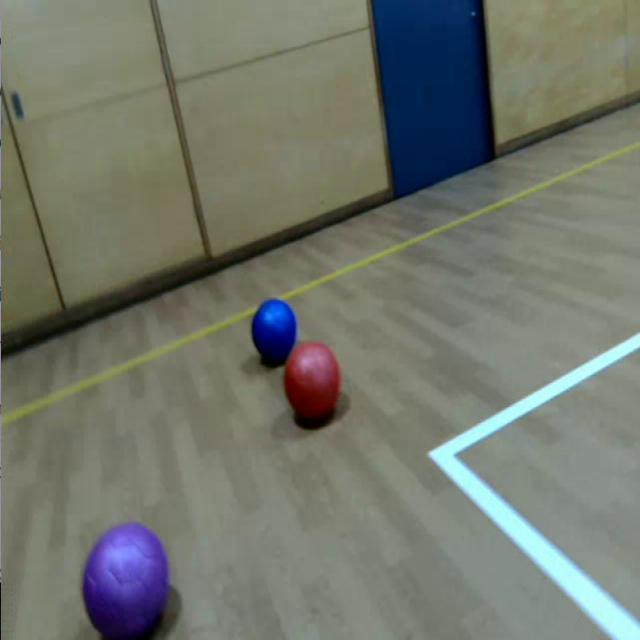blue_ball: (250, 298, 298, 363)
purple_ball: (79, 518, 172, 640)
red_ball: (286, 342, 341, 421)
